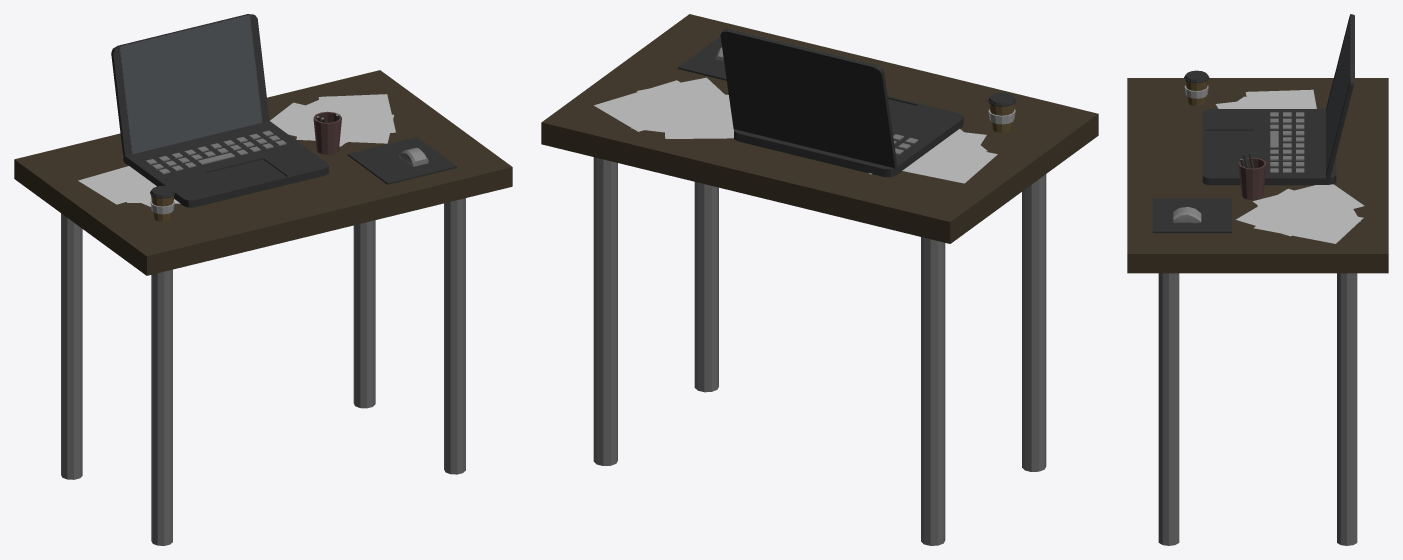
Rendered from table2.fbx.
The picture shows the model from 3 angles, left to right: view 1: azimuth 30°, elevation 25°; view 2: azimuth 150°, elevation 25°; view 3: azimuth 270°, elevation 25°; orthographic projection. The views are drawn at different scales.
Visible parts, largest first — view 1: polySurface139, polySurface169, polySurface170, polySurface135, polySurface138, polySurface137, polySurface136, polySurface171, polySurface129, polySurface128, polySurface130, polySurface173 (+3 smaller); view 2: polySurface139, polySurface169, polySurface136, polySurface137, polySurface138, polySurface135, polySurface170, polySurface128, polySurface127, polySurface129, polySurface130, polySurface124 (+3 smaller); view 3: polySurface139, polySurface170, polySurface135, polySurface136, polySurface171, polySurface169, polySurface129, polySurface128, polySurface131, polySurface130, polySurface173, polySurface127 (+3 smaller).
Boxes of the visible parts, <box> form: polySurface139: <box>14,70,512,275</box>; polySurface169: <box>111,14,269,155</box>; polySurface170: <box>123,121,328,207</box>; polySurface135: <box>444,198,465,474</box>; polySurface138: <box>151,269,172,545</box>; polySurface137: <box>61,213,82,479</box>; polySurface136: <box>353,220,375,408</box>; polySurface171: <box>347,137,457,184</box>; polySurface129: <box>318,94,395,134</box>; polySurface128: <box>296,111,393,143</box>; polySurface130: <box>279,96,385,143</box>; polySurface173: <box>313,111,341,154</box>; polySurface139: <box>541,14,1098,243</box>; polySurface169: <box>720,29,897,169</box>; polySurface136: <box>593,157,617,465</box>; polySurface137: <box>921,237,945,545</box>; polySurface138: <box>1022,174,1046,471</box>; polySurface135: <box>694,182,718,392</box>; polySurface170: <box>734,96,963,177</box>; polySurface128: <box>637,77,732,130</box>; polySurface127: <box>902,143,997,183</box>; polySurface129: <box>594,80,721,131</box>; polySurface130: <box>631,94,727,137</box>; polySurface124: <box>916,131,986,166</box>; polySurface139: <box>1127,78,1388,273</box>; polySurface170: <box>1202,109,1336,185</box>; polySurface135: <box>1158,273,1179,545</box>; polySurface136: <box>1337,273,1357,545</box>; polySurface171: <box>1152,198,1231,233</box>; polySurface169: <box>1326,14,1354,178</box>; polySurface129: <box>1253,202,1363,243</box>; polySurface128: <box>1236,188,1342,236</box>; polySurface131: <box>1253,184,1364,225</box>; polySurface130: <box>1257,194,1360,230</box>; polySurface173: <box>1238,153,1266,199</box>; polySurface127: <box>1245,89,1316,108</box>.
Bounding box in the file's own units: 1 × 1.09 × 0.6274.
